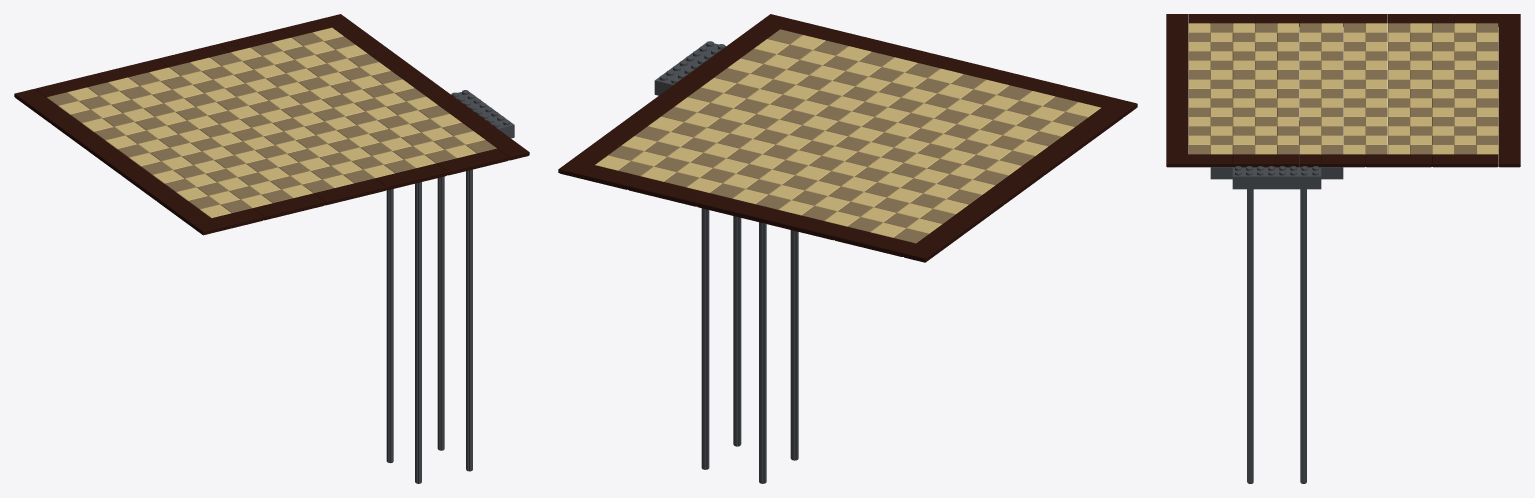
Rendered from floorWithPlatform.fbx.
3 views of the same model, side by side, from view 1: azimuth 30°, elevation 25°; view 2: azimuth 150°, elevation 25°; view 3: azimuth 270°, elevation 25° (orthographic). The views are drawn at different scales.
Visible parts, largest first — view 1: Ground, Platform; view 2: Ground, Platform; view 3: Ground, Platform.
Boxes of the visible parts, bbox=[...] form: Ground: bbox=[14, 14, 529, 235]; Platform: bbox=[366, 91, 493, 483]; Ground: bbox=[558, 14, 1137, 262]; Platform: bbox=[678, 43, 821, 483]; Ground: bbox=[1166, 14, 1520, 189]; Platform: bbox=[1232, 126, 1321, 483].
Size of the model in its own units: 27192 by 26028 by 25592.
